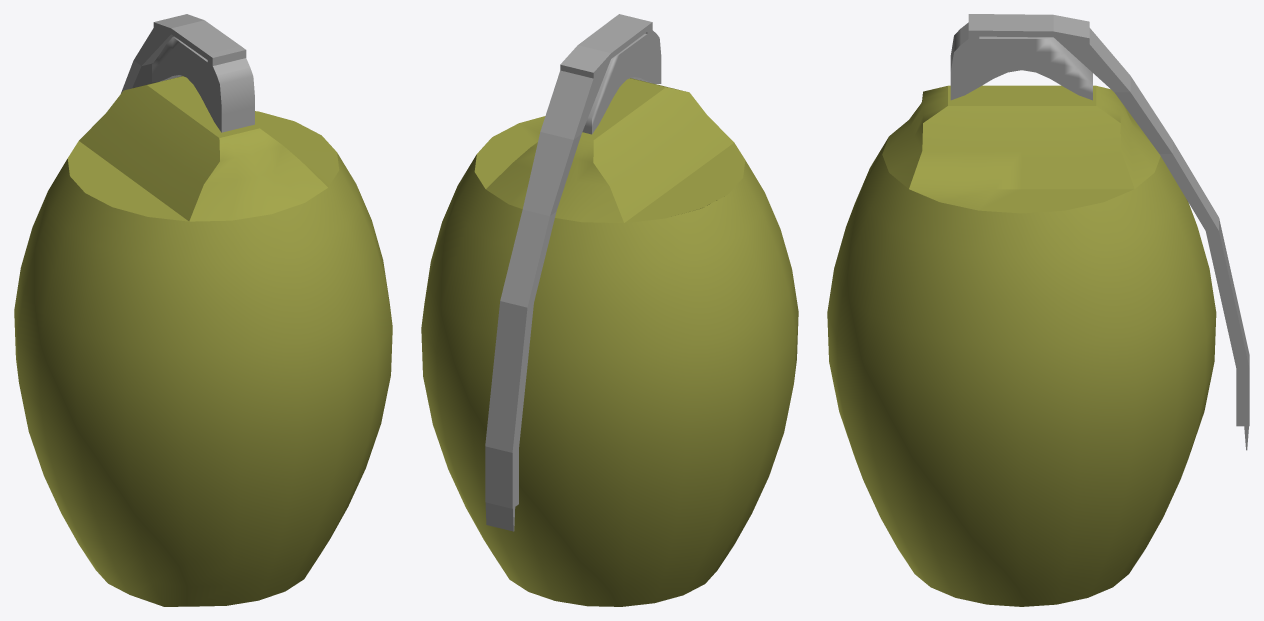
The model's file is Grenade.fbx.
3 views of the same model, side by side, from view 1: azimuth 30°, elevation 25°; view 2: azimuth 150°, elevation 25°; view 3: azimuth 270°, elevation 25° (orthographic). The views are drawn at different scales.
Visible parts, largest first — view 1: Obj_Grenade, Obj_Tab; view 2: Obj_Grenade, Obj_Tab; view 3: Obj_Grenade, Obj_Tab.
Part boxes in pixels (bbox=[...]): Obj_Grenade: bbox=[14, 76, 392, 606]; Obj_Tab: bbox=[121, 14, 254, 132]; Obj_Grenade: bbox=[421, 78, 798, 606]; Obj_Tab: bbox=[485, 14, 661, 531]; Obj_Grenade: bbox=[827, 85, 1216, 606]; Obj_Tab: bbox=[950, 14, 1249, 450].
Bounding box in the file's own units: 9.86 × 15.14 × 10.7.
